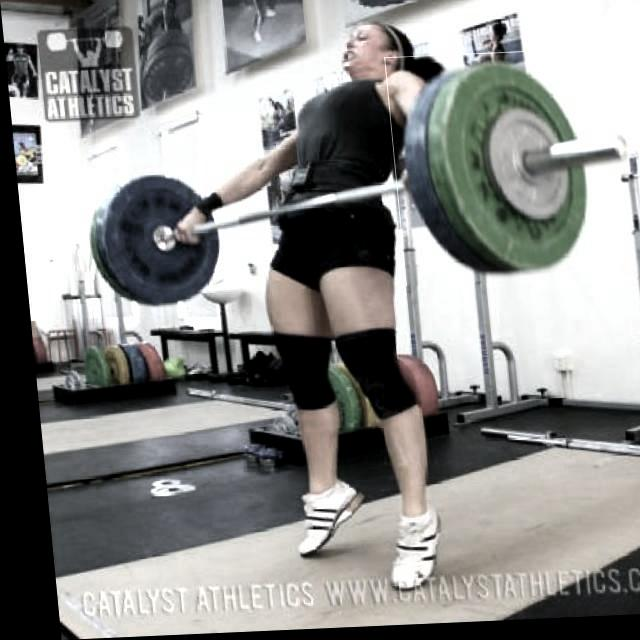barbell: (382, 53, 640, 291)
